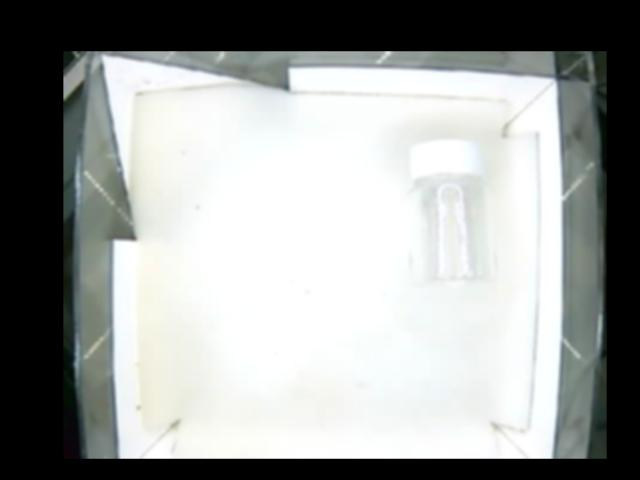Bottle: (405, 141, 498, 286)
